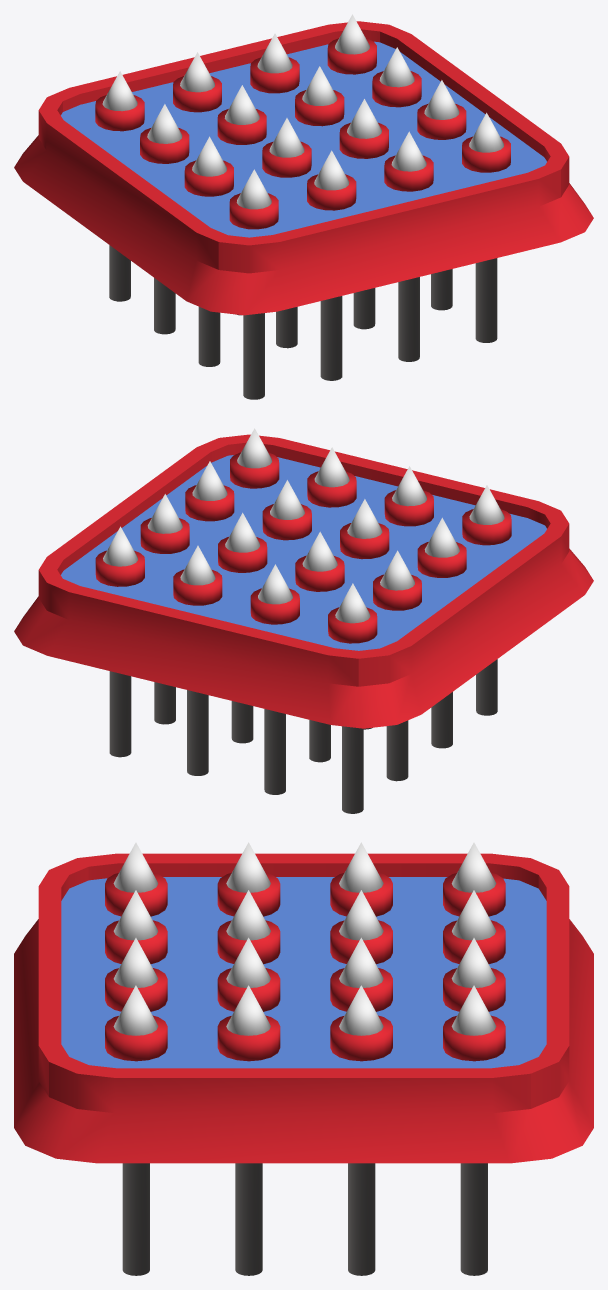
The model's file is Obstacle 6 V1.fbx.
3 renders of one model, top to bottom at view 1: azimuth 30°, elevation 25°; view 2: azimuth 150°, elevation 25°; view 3: azimuth 270°, elevation 25°, orthographic. The views are drawn at different scales.
Parts seen in each view (by area): view 1: O6 Part 1, O6 Part 2; view 2: O6 Part 1, O6 Part 2; view 3: O6 Part 1, O6 Part 2.
Part boxes in pixels (bbox=[...]): O6 Part 1: bbox=[14, 21, 593, 315]; O6 Part 2: bbox=[95, 14, 510, 399]; O6 Part 1: bbox=[14, 434, 593, 728]; O6 Part 2: bbox=[95, 428, 511, 813]; O6 Part 1: bbox=[14, 853, 593, 1163]; O6 Part 2: bbox=[105, 842, 505, 1275].
Bounding box in the file's own units: 125 × 67.55 × 125.
1 material, 1 textured.
